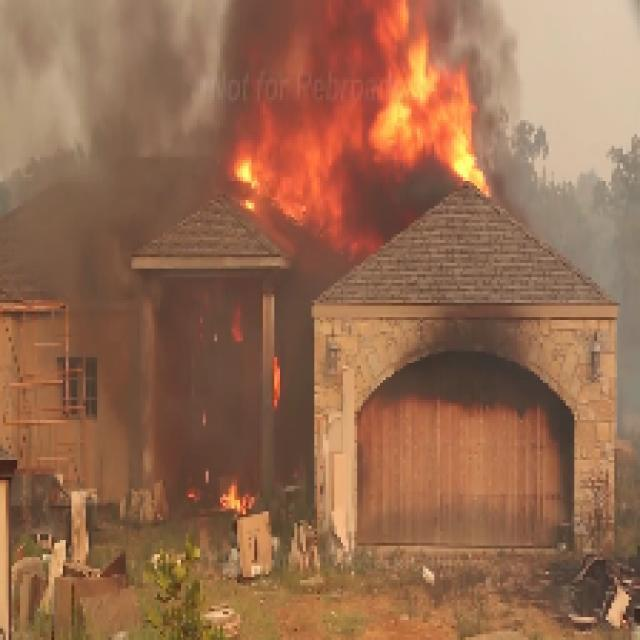Fire: (234, 31, 492, 238)
Smoke: (40, 37, 177, 294)
